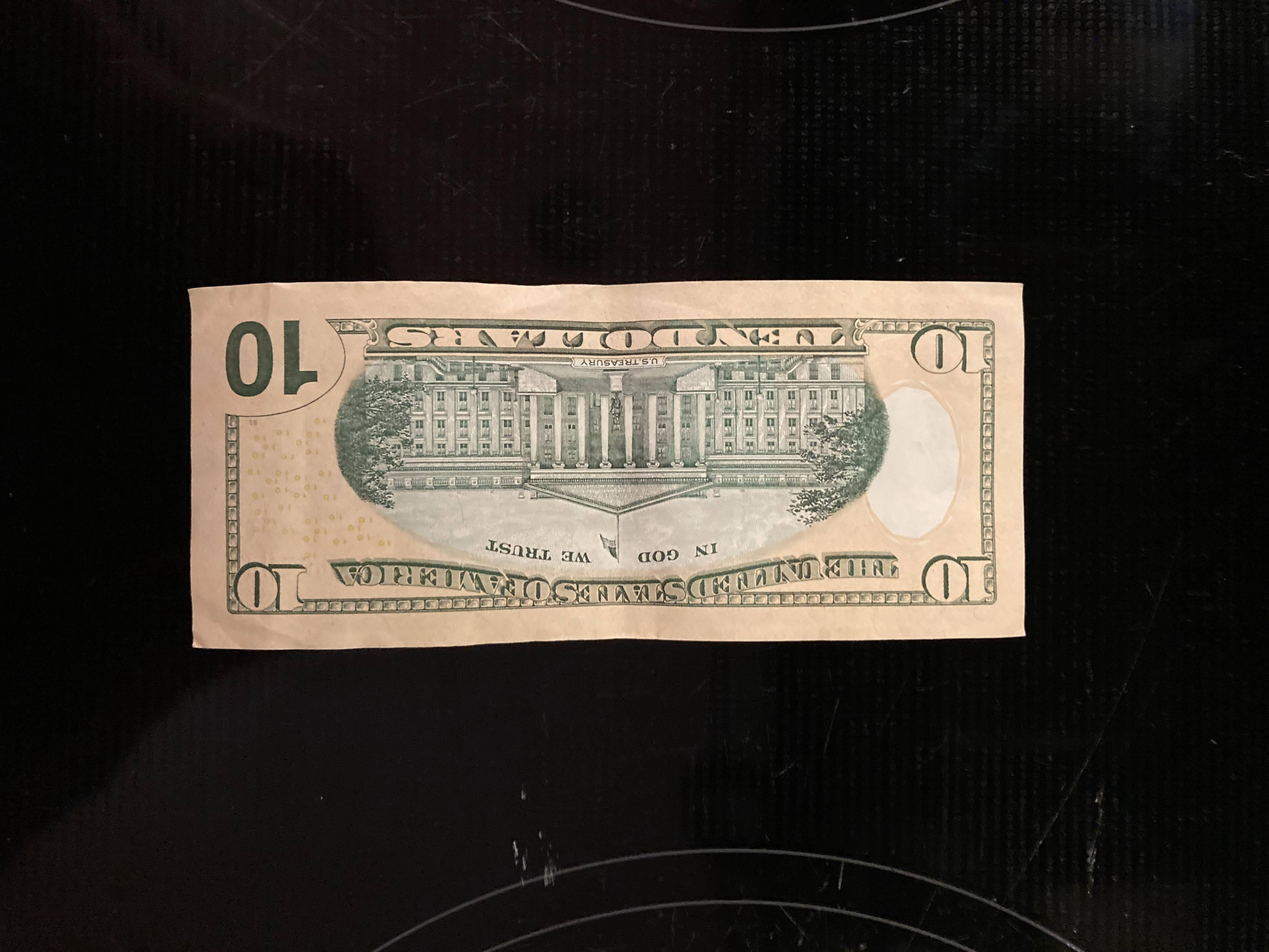ten-back: (189, 280, 1033, 652)
